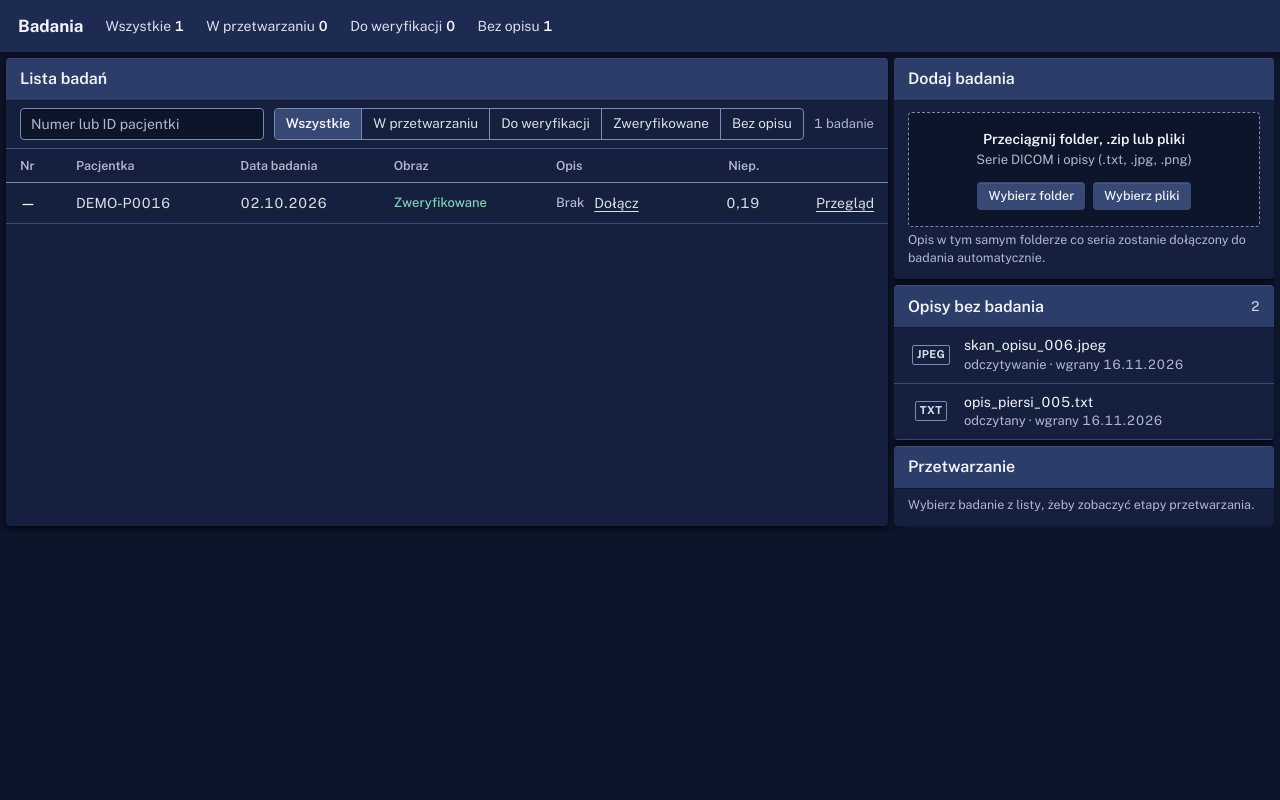
Test: attaching a report › pairs a study without a report with one already uploaded
Click the button "Dołącz" at (617, 204), box [594,193,639,214]
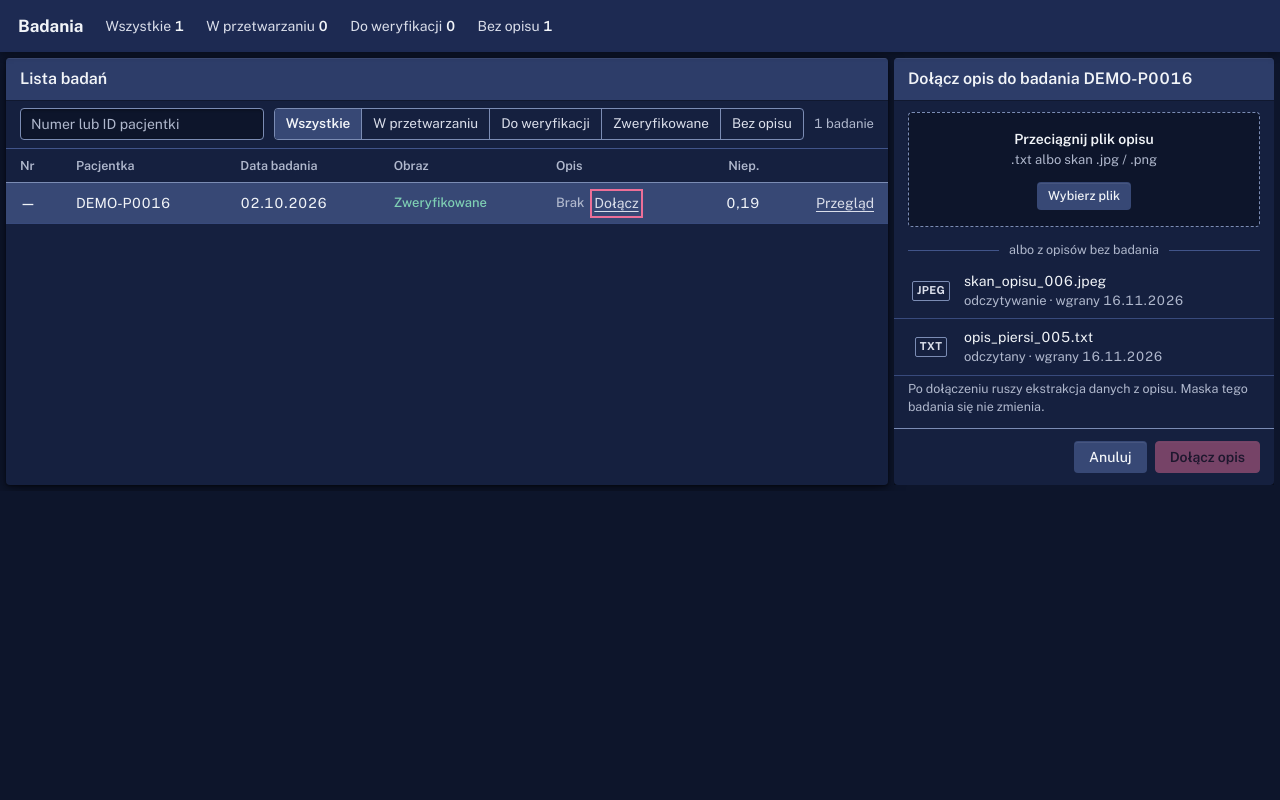
Click the button "TXT opis_piersi_005.txt odczytany · wgrany 16.11.2026" at (1084, 347), box [894,319,1274,374]
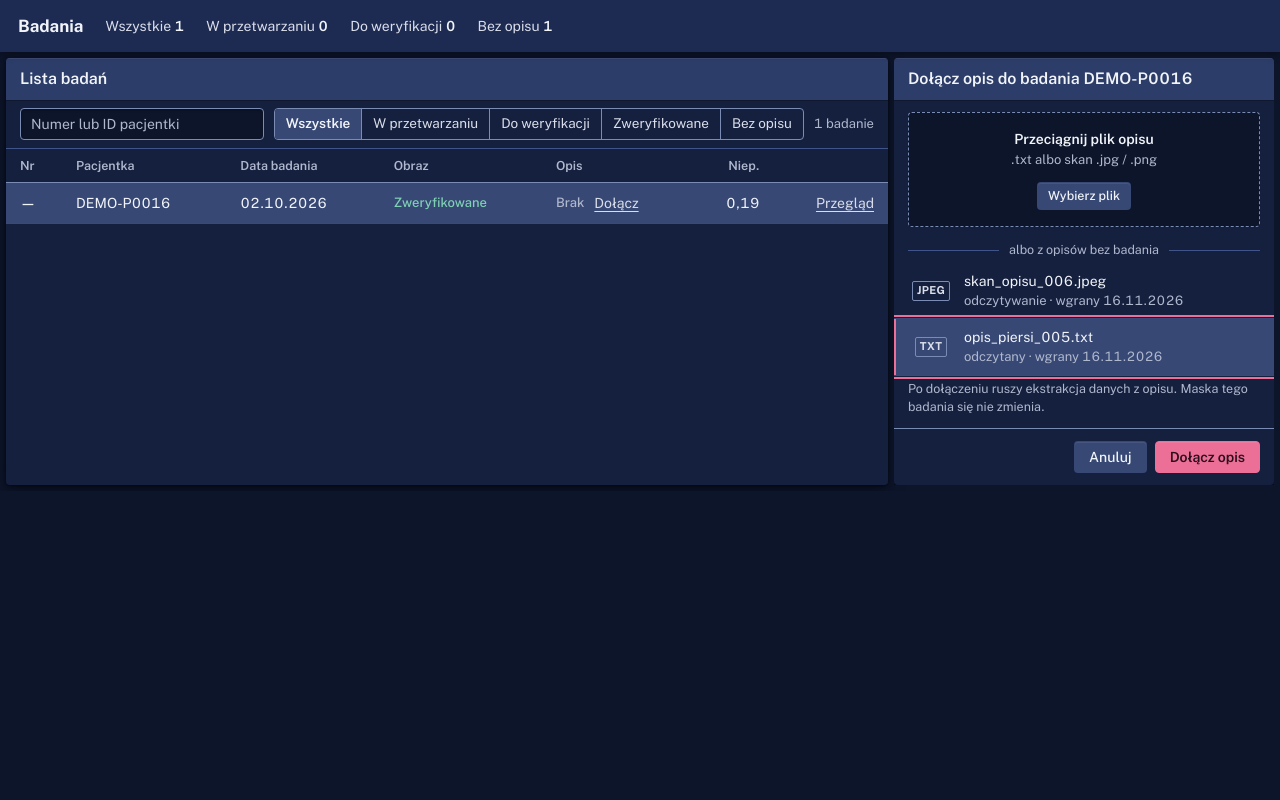
Click the button "Dołącz opis" at (1207, 457), box [1155,441,1260,473]
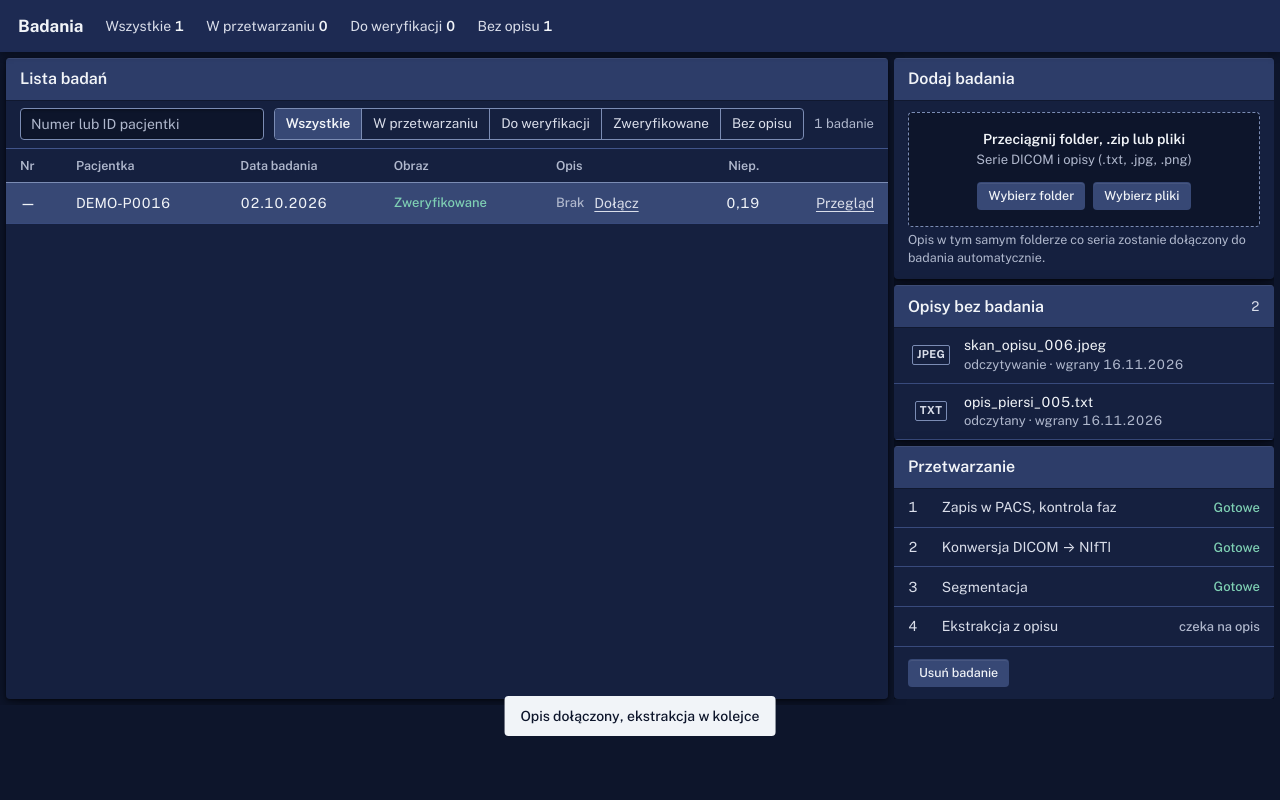
expect the message reads "Opis dołączony, ekstrakcja w kolejce": met, box [521,708,760,724]
